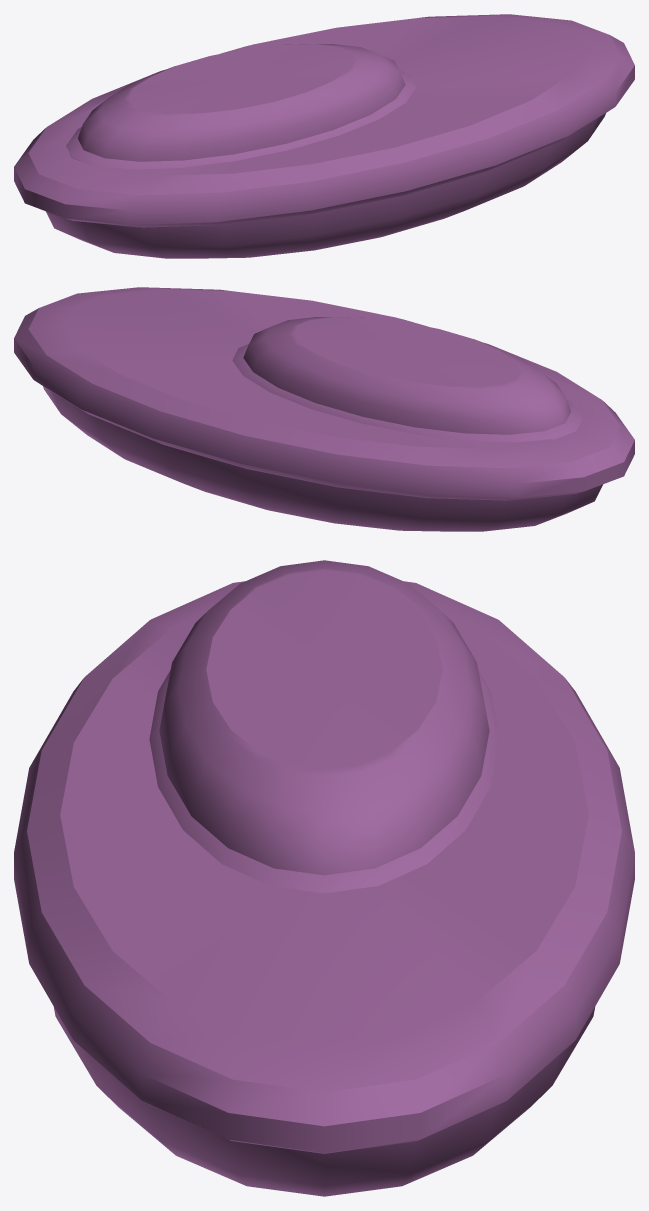
The model's file is HoverShip2.fbx.
3 views of the same model, one above another, from view 1: azimuth 30°, elevation 25°; view 2: azimuth 150°, elevation 25°; view 3: azimuth 270°, elevation 25° (orthographic). The views are drawn at different scales.
Visible parts, largest first — view 1: group16_pasted__pCylinder13; view 2: group16_pasted__pCylinder13; view 3: group16_pasted__pCylinder13.
Part boxes in pixels (box(x1,y1,x2,y2)): group16_pasted__pCylinder13: box(14, 14, 634, 258); group16_pasted__pCylinder13: box(14, 287, 634, 531); group16_pasted__pCylinder13: box(14, 560, 634, 1196).
Bounding box in the file's own units: 16.01 × 3.52 × 7.67.
